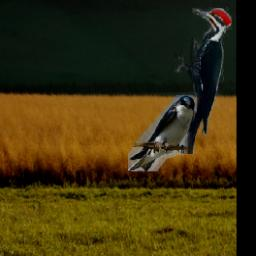Swallow: (129, 96, 198, 172)
Woodpecker: (176, 5, 233, 154)
